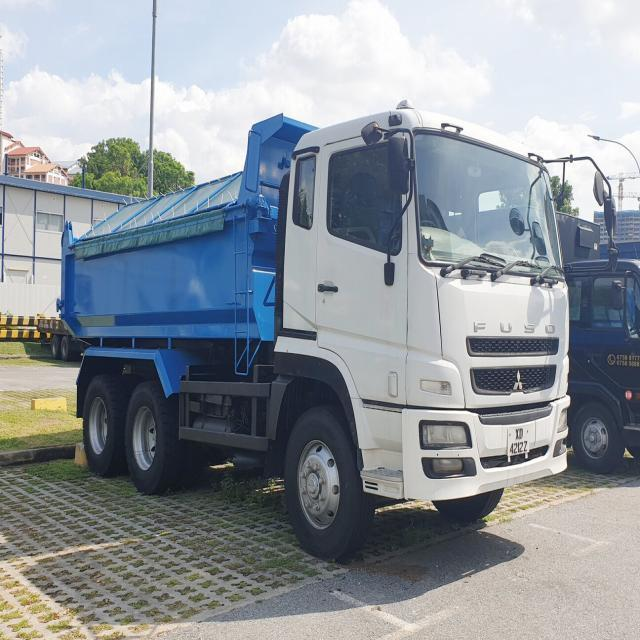truck: (56, 106, 616, 557)
